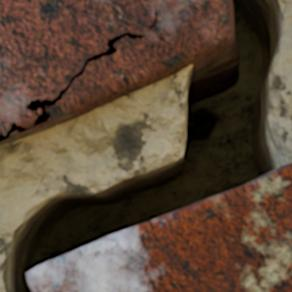brick: (27, 163, 291, 291), (0, 0, 232, 144)
crack: (2, 0, 290, 291), (0, 32, 144, 142)
